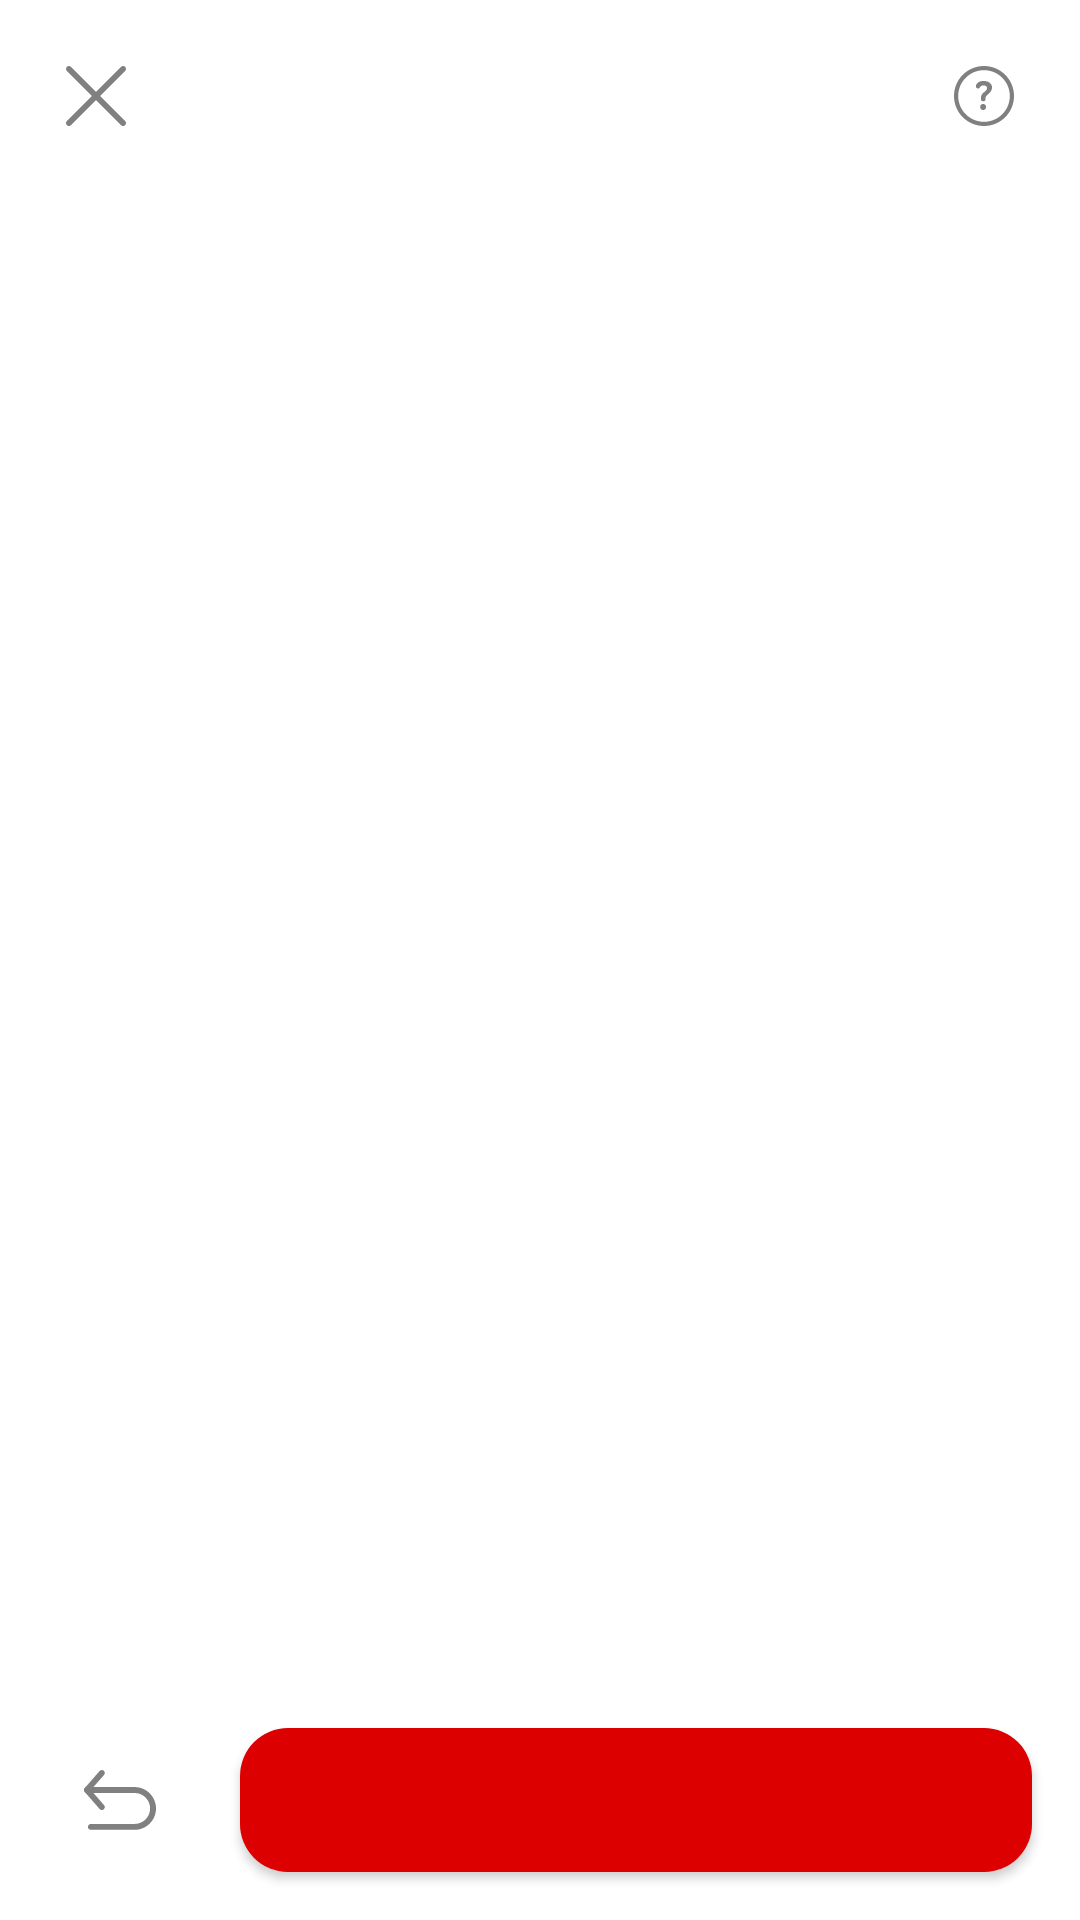

Icons on this 1080 × 1920 Android screen, each with its box as (x1, y1, x2, y2):
Back: (84, 1770, 156, 1830)
Close: (66, 66, 126, 126)
Help: (954, 66, 1014, 126)
